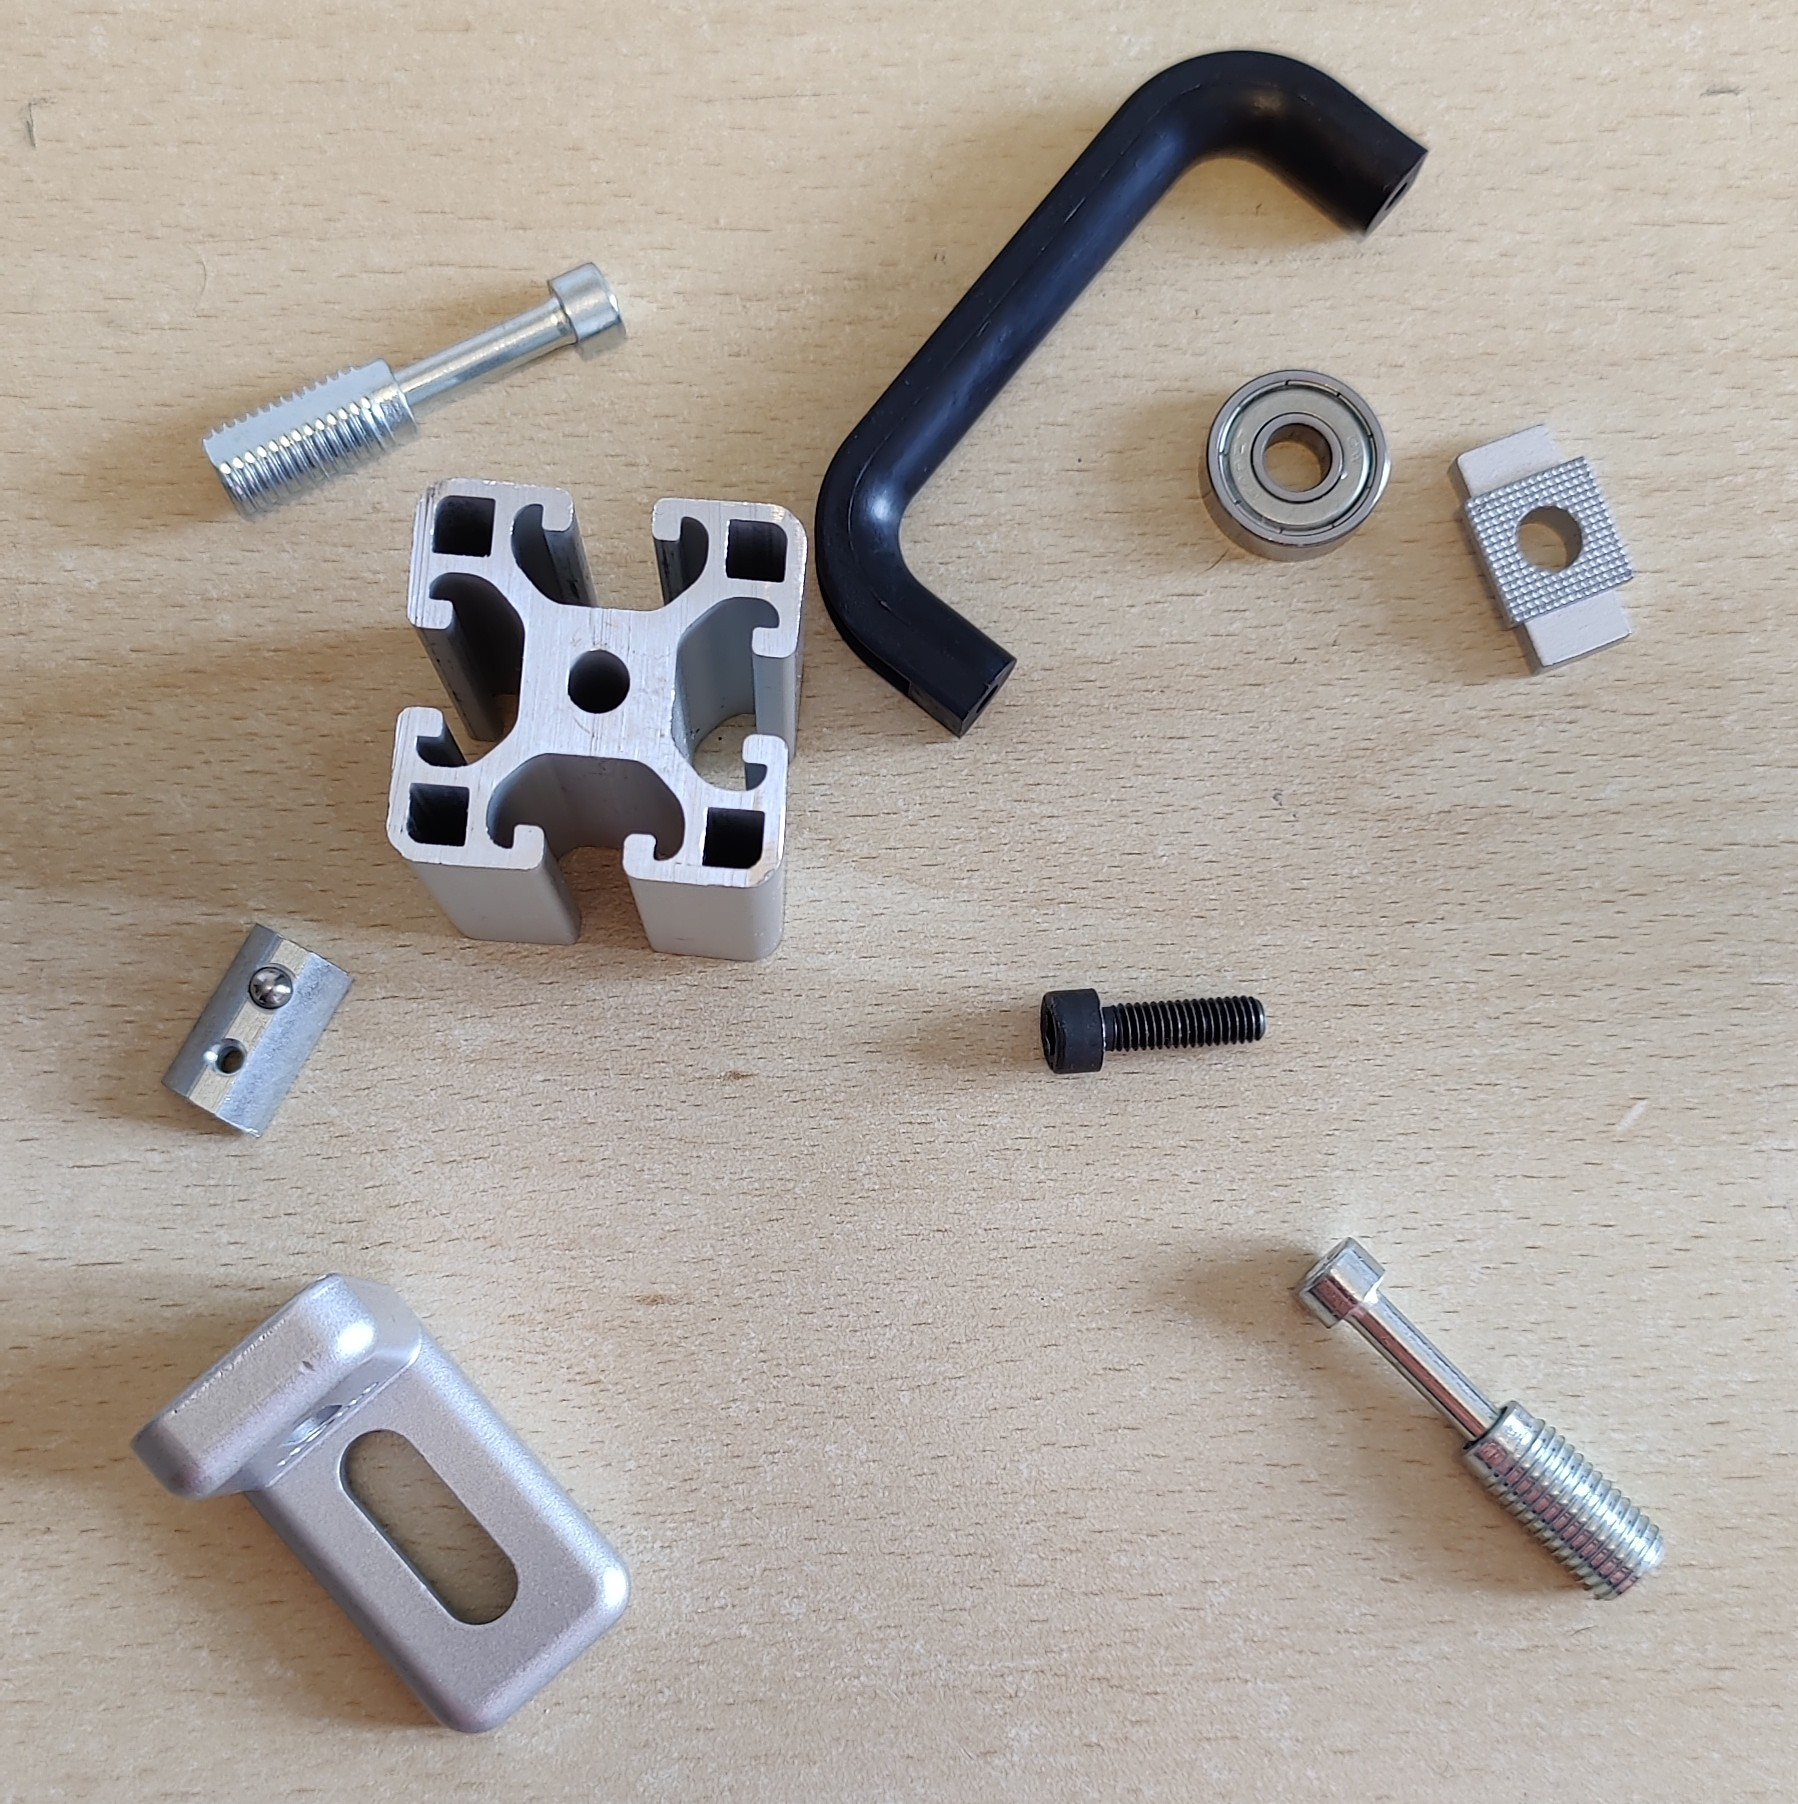Aluminium Extension: (382, 472, 812, 965)
Ball Bearing: (1195, 364, 1393, 565)
Multiwinkel: (127, 1271, 632, 1737)
Pull Handle: (813, 48, 1432, 741)
Shoulder Socket Head Cap Screw: (1293, 1234, 1671, 1605), (196, 257, 631, 525)
Socket Head Cap Screw: (1037, 986, 1269, 1078)
T Nut Square: (1442, 420, 1637, 678)
T Spring Nut: (158, 922, 359, 1137)
